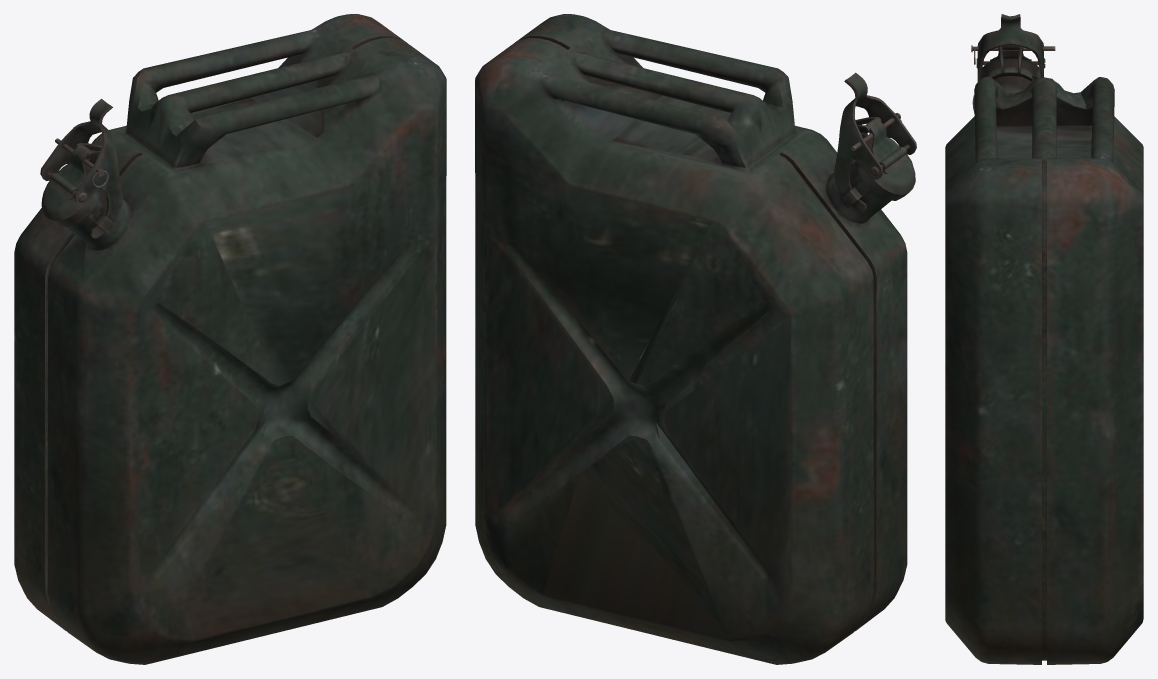
File: metal_jerrycan_green.glb
3 views of the same model, side by side, from view 1: azimuth 30°, elevation 25°; view 2: azimuth 150°, elevation 25°; view 3: azimuth 270°, elevation 25° (orthographic). The views are drawn at different scales.
Visible parts, largest first — view 1: metal_jerrycan_green; view 2: metal_jerrycan_green; view 3: metal_jerrycan_green.
Boxes of the visible parts, left/top/right/bottom form: metal_jerrycan_green: left=14, top=14, right=446, bottom=664; metal_jerrycan_green: left=475, top=14, right=916, bottom=664; metal_jerrycan_green: left=945, top=14, right=1143, bottom=664.
Bounding box in the file's own units: 0.3604 × 0.4999 × 0.1709.
1 material, 1 textured.
